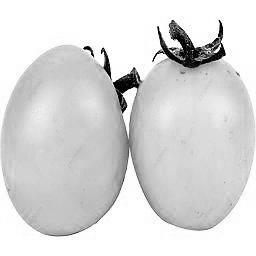bukan telur: (0, 45, 128, 237), (135, 50, 255, 232)
